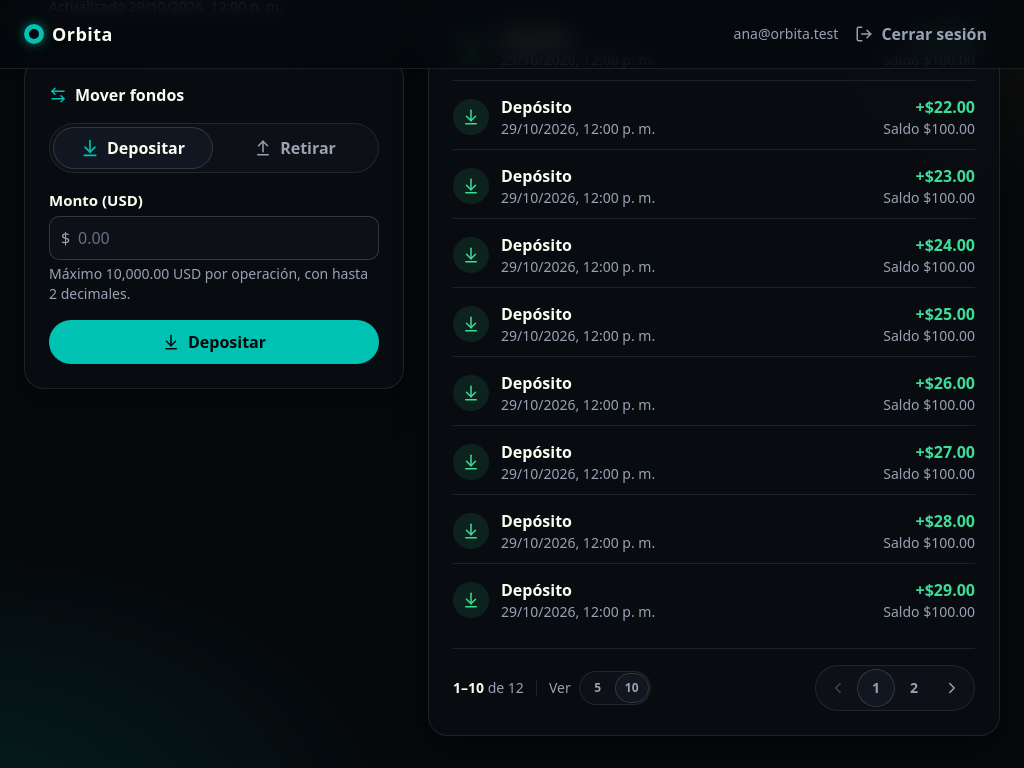
Test: movement form › goes back to page 1 after an operation and highlights the new movement
(page scrolled)
Click the button named "Página 2": (914, 688) [896, 670, 932, 706]
(page scrolled)
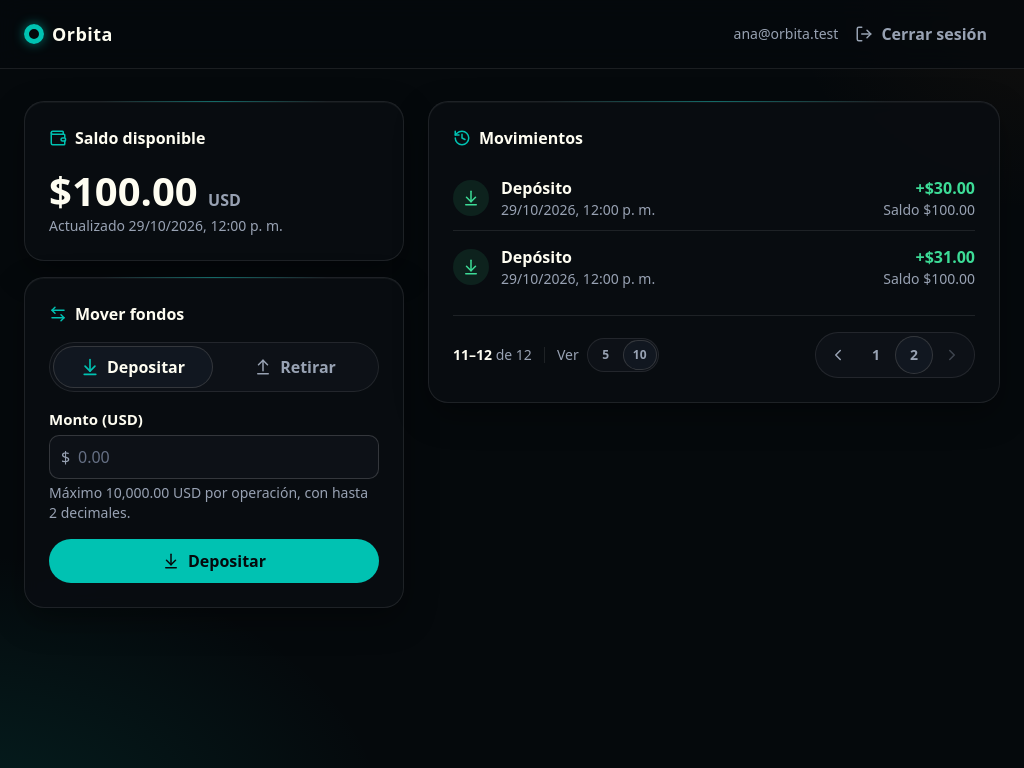
Check: the text "+$31.00" is shown, box [916, 246, 975, 268]
In the field labelled "Monto (USD)": (214, 456) [49, 434, 379, 478], type "5"
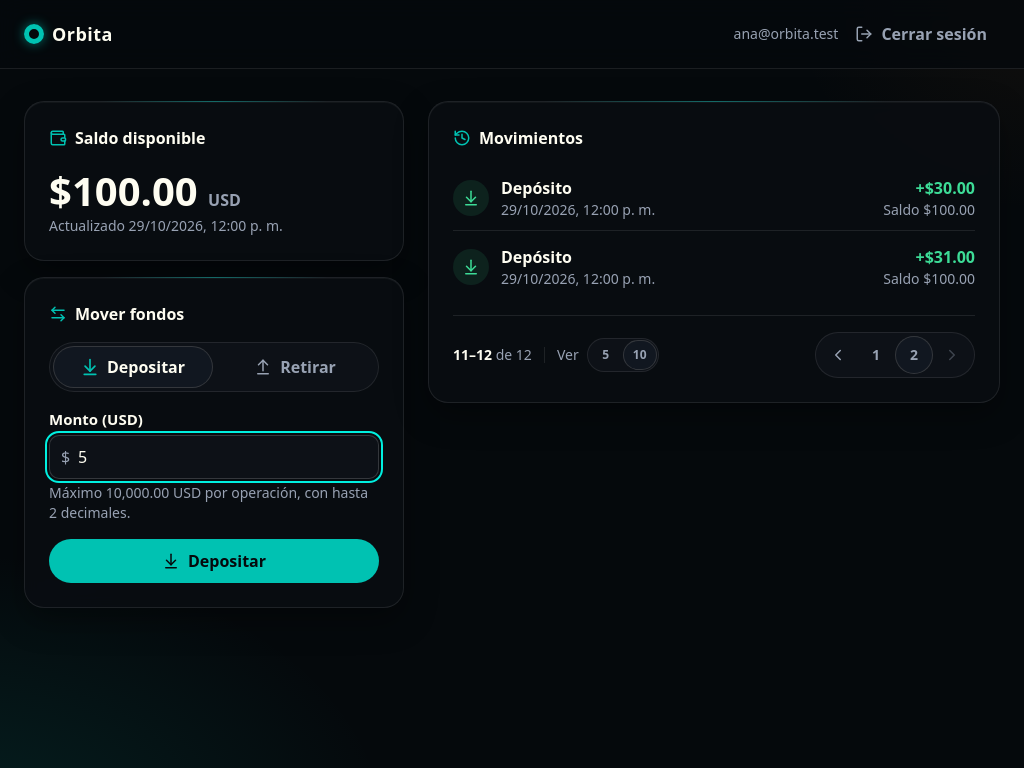
Click the button "Depositar": (214, 560) [49, 538, 379, 582]
(page scrolled)
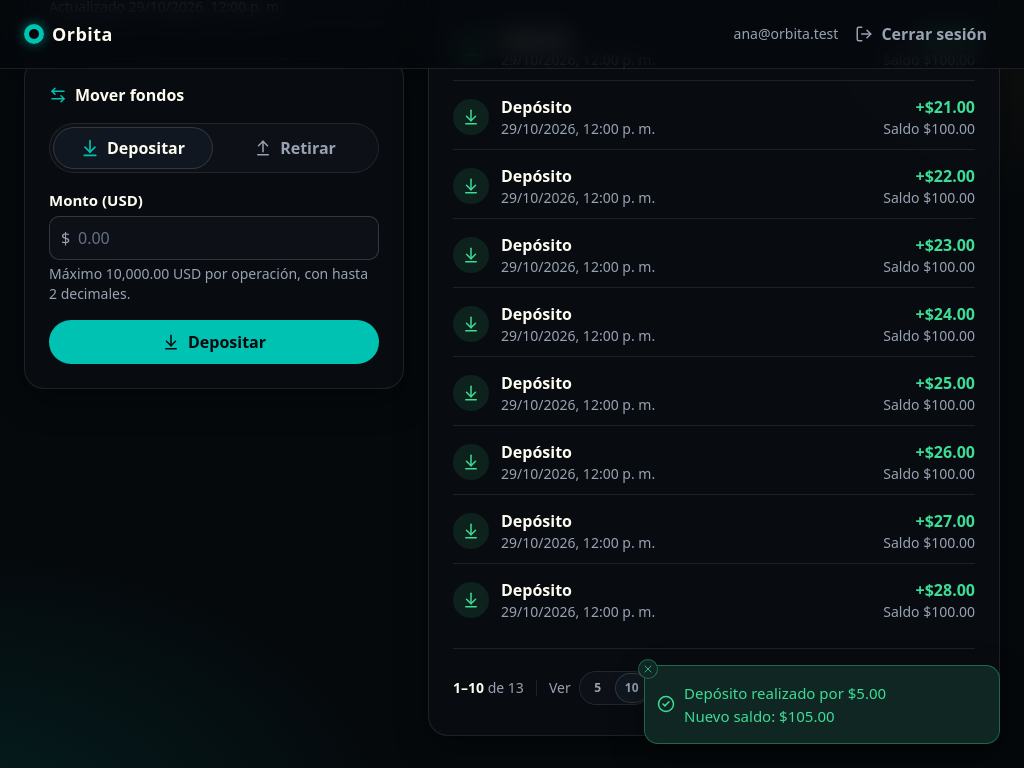
Check: the navigation bar named "Paginación de movimientos" shows "1–10 de 13", box [453, 648, 975, 711]
